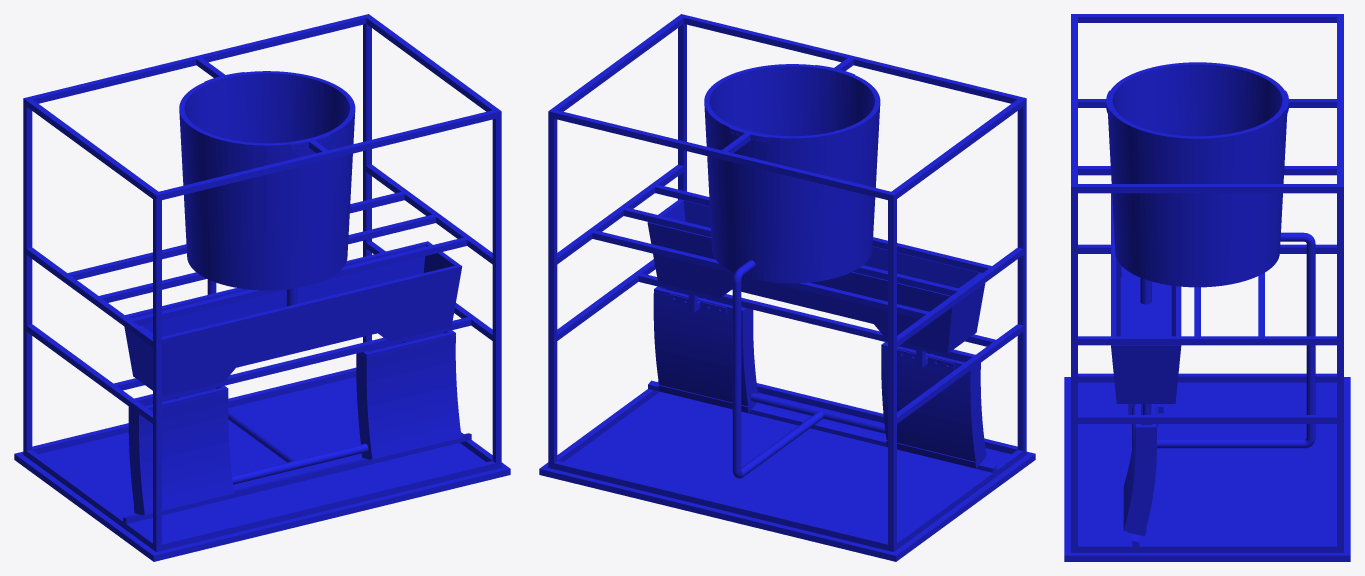
The model's file is MiniModelMat.glb.
3 views of the same model, side by side, from view 1: azimuth 30°, elevation 25°; view 2: azimuth 150°, elevation 25°; view 3: azimuth 270°, elevation 25° (orthographic). The views are drawn at different scales.
Visible parts, largest first — view 1: MiniModelKonti v0; view 2: MiniModelKonti v0; view 3: MiniModelKonti v0.
Boxes of the visible parts, x1,y1,x2,y2 form: MiniModelKonti v0: [14, 14, 510, 561]; MiniModelKonti v0: [539, 14, 1035, 561]; MiniModelKonti v0: [1064, 14, 1350, 561].
Bounding box in the file's own units: 5.04 × 4.89 × 3.41.
